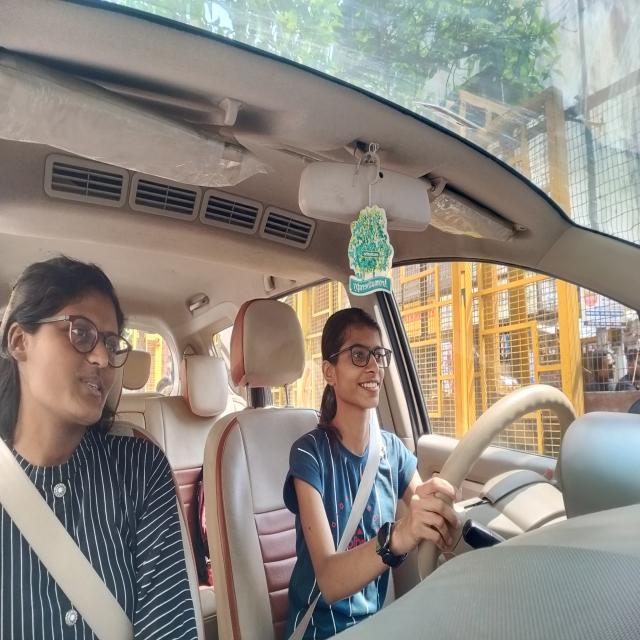person: (42, 272, 131, 426), (323, 307, 395, 426)
